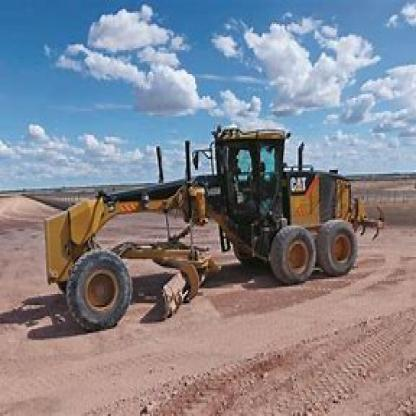bull_dozer/loader/grader: (32, 111, 390, 344)
